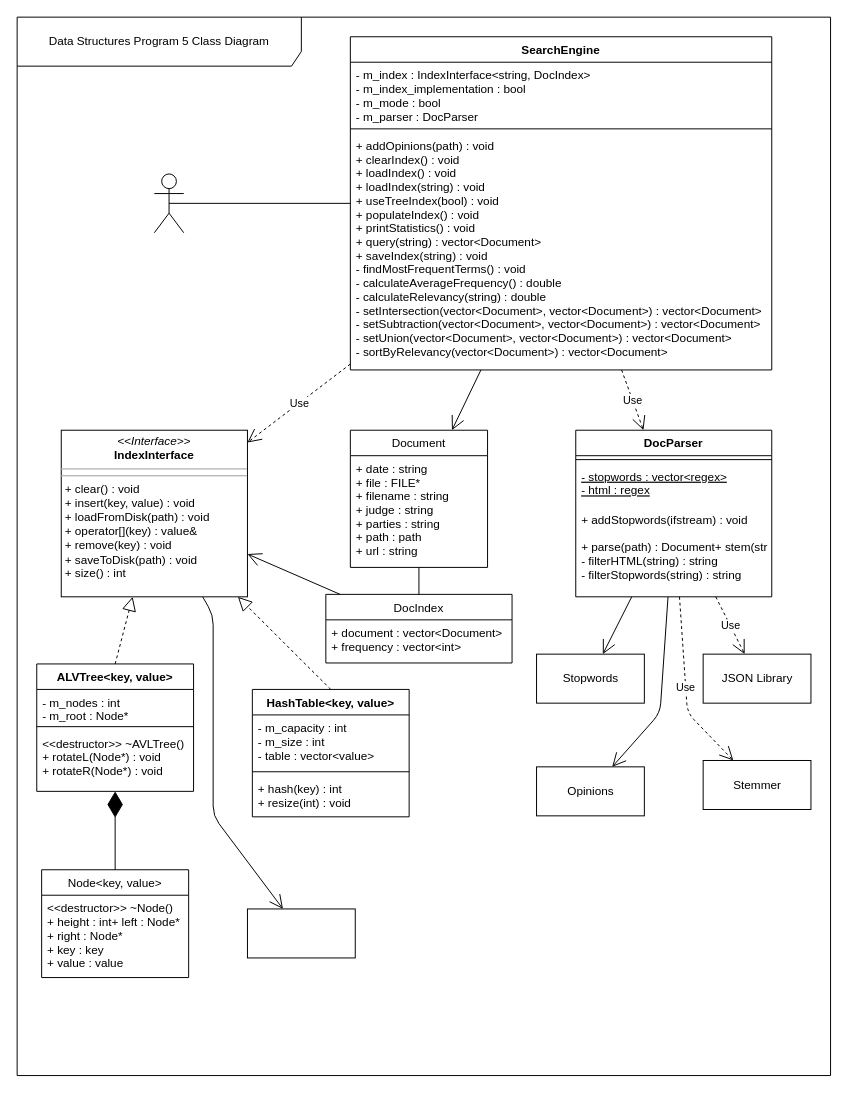
Image size: 848x1093. Some labels were removed from this diagram. The shapes that lost their labels are listed below. From the top down, each one's centre as x and y in pixels, then its label:
At pixel 168 203: "User".
At pixel 300 933: "Disk".
